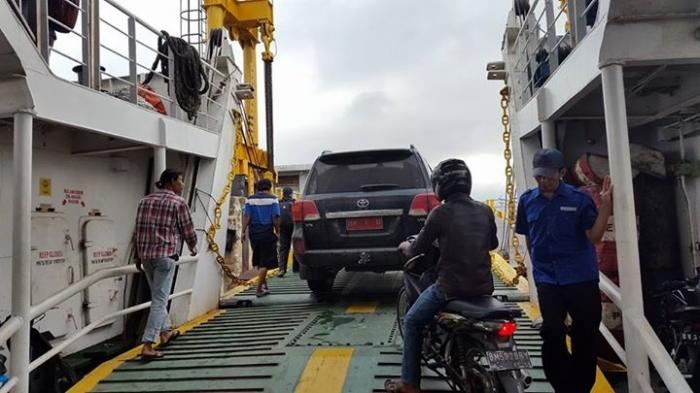plate: (488, 349, 527, 368), (346, 217, 381, 232)
